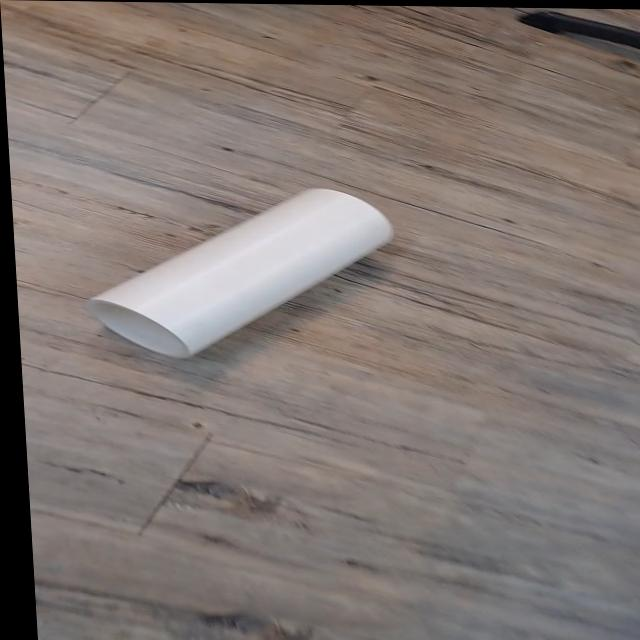CORAL: (62, 178, 415, 381)
